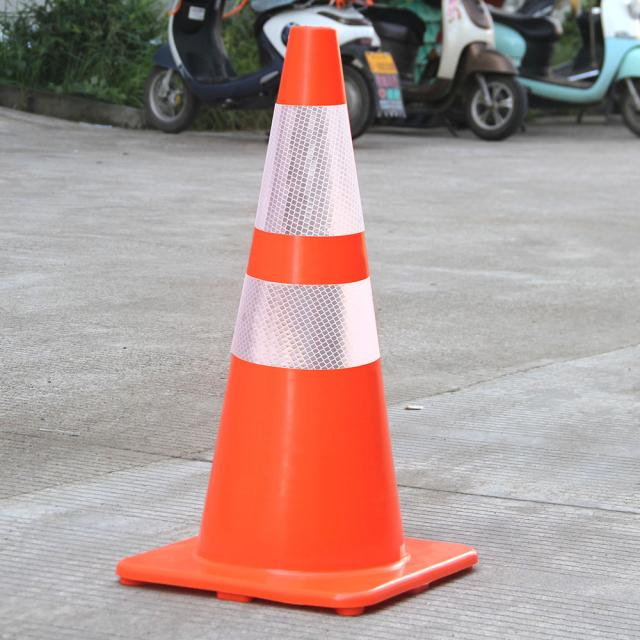Traffic Cone: (107, 6, 497, 640)
